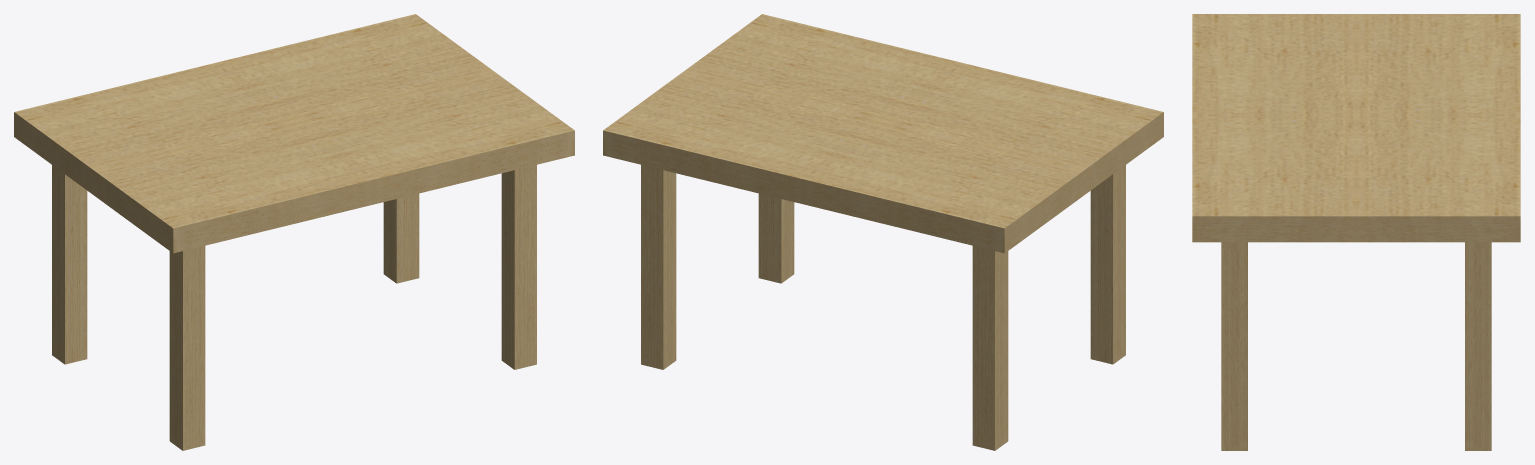
File: microwave_table.glb
3 views of the same model, side by side, from view 1: azimuth 30°, elevation 25°; view 2: azimuth 150°, elevation 25°; view 3: azimuth 270°, elevation 25° (orthographic). The views are drawn at different scales.
Parts seen in each view (by area): view 1: Cube; view 2: Cube; view 3: Cube.
Part boxes in pixels (box(x1,y1,x2,y2)): Cube: box(14, 14, 574, 450); Cube: box(603, 14, 1163, 450); Cube: box(1192, 14, 1520, 450).
Size of the model in its own units: 2.66 by 1.51 by 1.82.
1 material, 1 textured.
